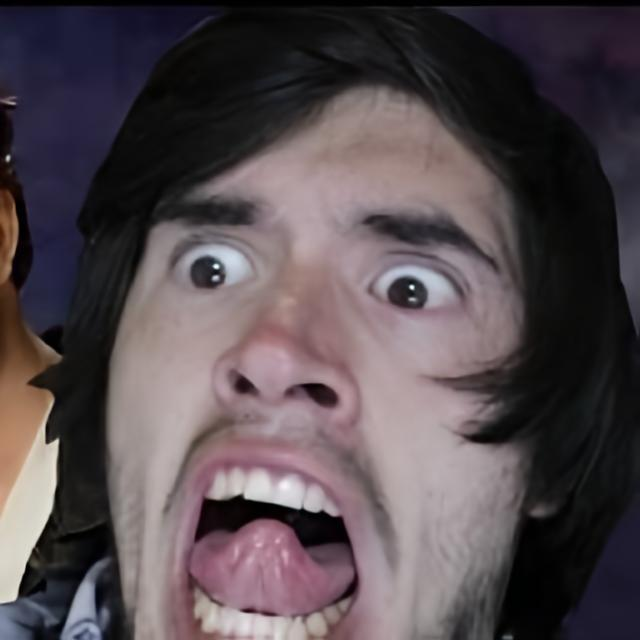fear: (102, 75, 541, 640)
